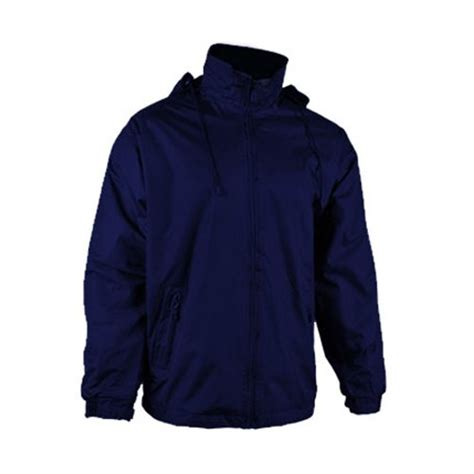nylon: (81, 42, 386, 431)
